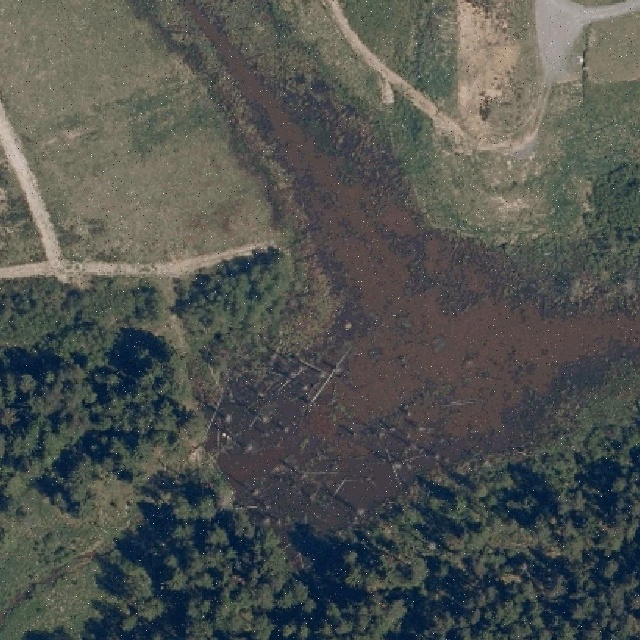vegetation: (84, 399, 640, 640), (0, 254, 287, 538)
